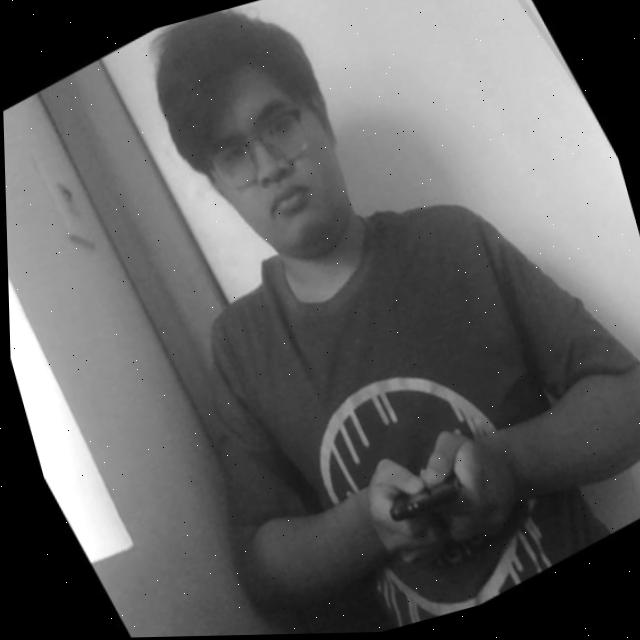phone: (359, 437, 499, 571)
